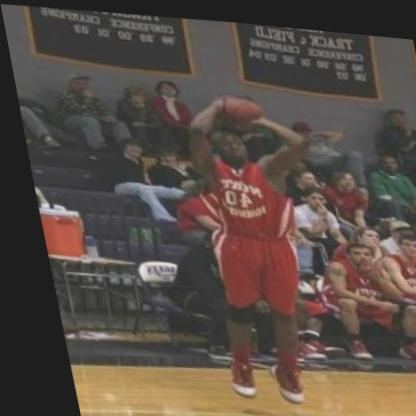basketball: (209, 81, 266, 125)
